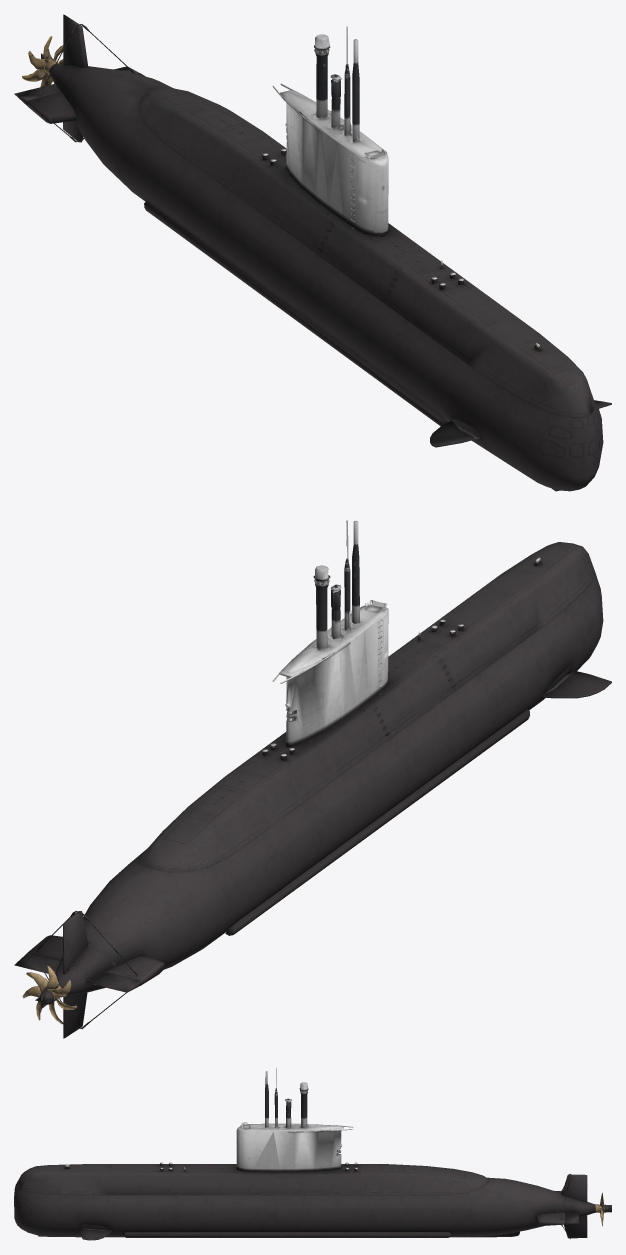
File: realistic-by.2e298fc5a522.submarine.glb
The picture shows the model from 3 angles, top to bottom: view 1: azimuth 30°, elevation 25°; view 2: azimuth 150°, elevation 25°; view 3: azimuth 270°, elevation 25°; orthographic projection. The views are drawn at different scales.
Parts seen in each view (by area): view 1: submarine; view 2: submarine; view 3: submarine.
Part boxes in pixels (x1,y1,x2,y2): submarine: (14, 14, 611, 491); submarine: (14, 520, 611, 1038); submarine: (14, 1067, 611, 1240).
Bounding box in the file's own units: 10.44 × 17.65 × 56.
Materials: 2 (2 with a texture image).
